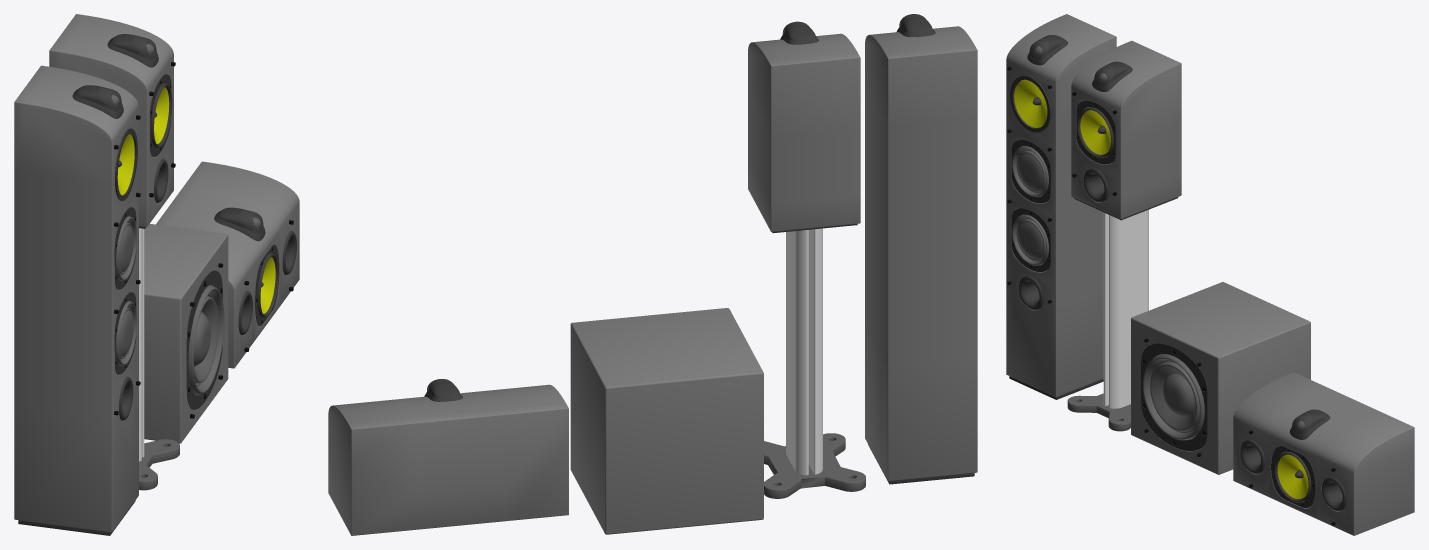
Rendered from parlantes.FBX.
The picture shows the model from 3 angles, left to right: view 1: azimuth 30°, elevation 25°; view 2: azimuth 150°, elevation 25°; view 3: azimuth 270°, elevation 25°; orthographic projection. The views are drawn at different scales.
Visible parts, largest first — view 1: obj_08, obj_05, obj_31, obj_21, obj_07, obj_04, obj_32, obj_09, obj_22, obj_17, obj_24, obj_01 (+8 smaller); view 2: obj_08, obj_05, obj_31, obj_21, obj_17, obj_24, obj_07, obj_22; view 3: obj_08, obj_31, obj_05, obj_21, obj_17, obj_04, obj_07, obj_09, obj_32, obj_22, obj_01, obj_24 (+5 smaller).
Boxes of the visible parts, left/top/right/bottom form: obj_08: left=14, top=65, right=138, bottom=532; obj_05: left=144, top=224, right=228, bottom=443; obj_31: left=156, top=161, right=299, bottom=368; obj_21: left=49, top=14, right=173, bottom=227; obj_07: left=18, top=85, right=137, bottom=535; obj_04: left=188, top=285, right=224, bottom=394; obj_32: left=214, top=207, right=296, bottom=335; obj_09: left=116, top=216, right=137, bottom=365; obj_22: left=107, top=34, right=171, bottom=228; obj_17: left=139, top=228, right=144, bottom=461; obj_24: left=139, top=439, right=179, bottom=490; obj_01: left=186, top=270, right=222, bottom=409; obj_08: left=865, top=26, right=977, bottom=481; obj_05: left=570, top=308, right=763, bottom=534; obj_31: left=328, top=384, right=568, bottom=535; obj_21: left=748, top=33, right=860, bottom=231; obj_17: left=786, top=228, right=822, bottom=475; obj_24: left=764, top=433, right=865, bottom=498; obj_07: left=868, top=15, right=974, bottom=484; obj_22: left=772, top=23, right=857, bottom=233; obj_08: left=1006, top=14, right=1116, bottom=396; obj_31: left=1233, top=372, right=1414, bottom=535; obj_05: left=1131, top=282, right=1310, bottom=474; obj_21: left=1071, top=40, right=1181, bottom=218; obj_17: left=1103, top=209, right=1148, bottom=408; obj_04: left=1143, top=354, right=1204, bottom=439; obj_07: left=1009, top=35, right=1103, bottom=399; obj_09: left=1012, top=146, right=1048, bottom=265; obj_32: left=1240, top=409, right=1346, bottom=510; obj_22: left=1074, top=61, right=1178, bottom=220; obj_01: left=1141, top=343, right=1207, bottom=450; obj_24: left=1067, top=393, right=1130, bottom=431.
Bounding box in the file's own units: 1195 × 1061 × 1130.
